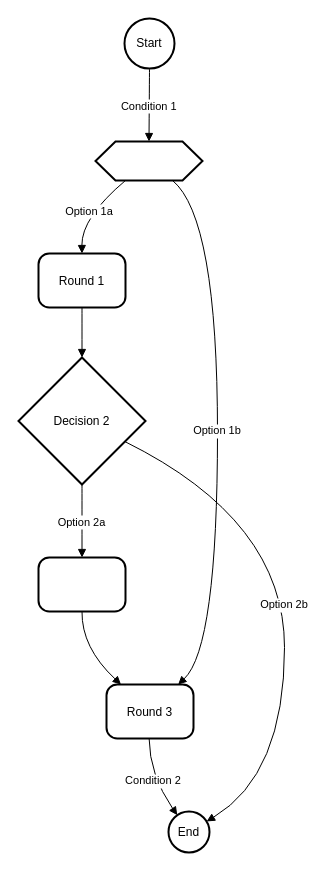
The diagram is 326 pixels wide and 870 high, and some of its shapes have lost their labels. Each missing label, with the centre of its shape:
Decision 1: point (148, 160)
Round 2: point (81, 584)
